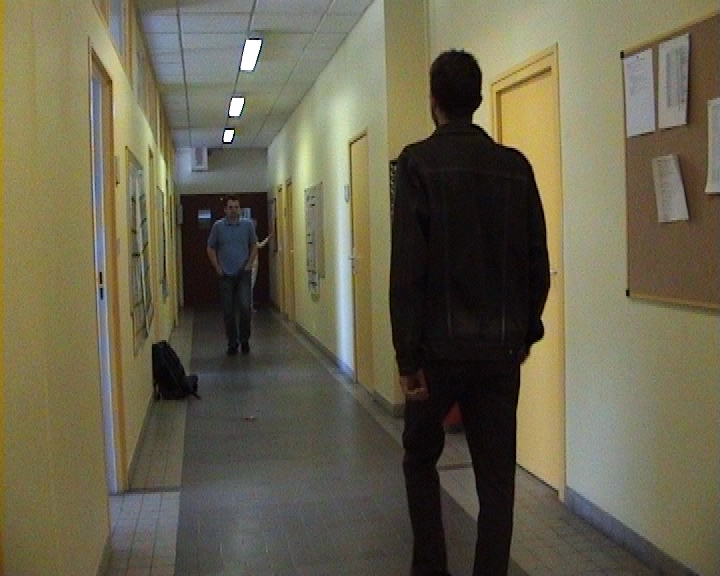leave bag unattended: (136, 328, 220, 415)
